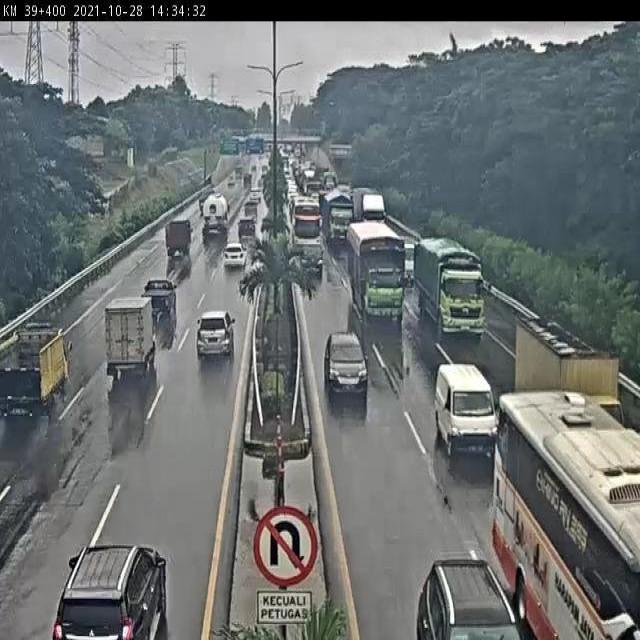big bus: (290, 200, 324, 253)
big truck: (497, 393, 640, 640), (413, 238, 493, 342), (346, 218, 408, 330), (323, 187, 355, 248)
car: (49, 542, 171, 640), (439, 364, 499, 463), (103, 298, 159, 382), (324, 334, 368, 406), (195, 308, 238, 359), (143, 279, 179, 320), (398, 234, 422, 282), (298, 240, 329, 276), (222, 243, 248, 268)
small truck: (515, 322, 627, 434), (0, 320, 73, 417), (201, 192, 232, 241), (163, 216, 191, 256)
